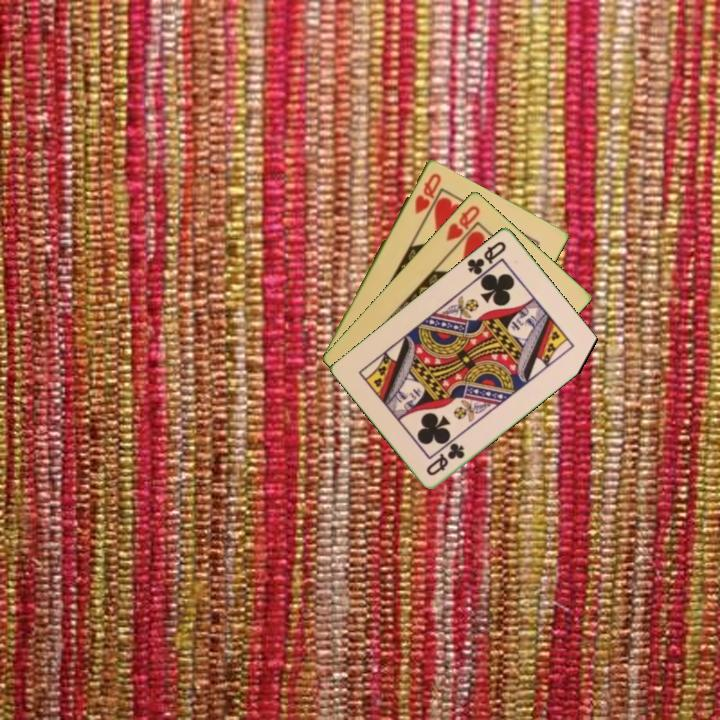Qc: (463, 237, 509, 278), (423, 439, 468, 478)
Qh: (442, 201, 483, 243), (411, 169, 444, 217)
